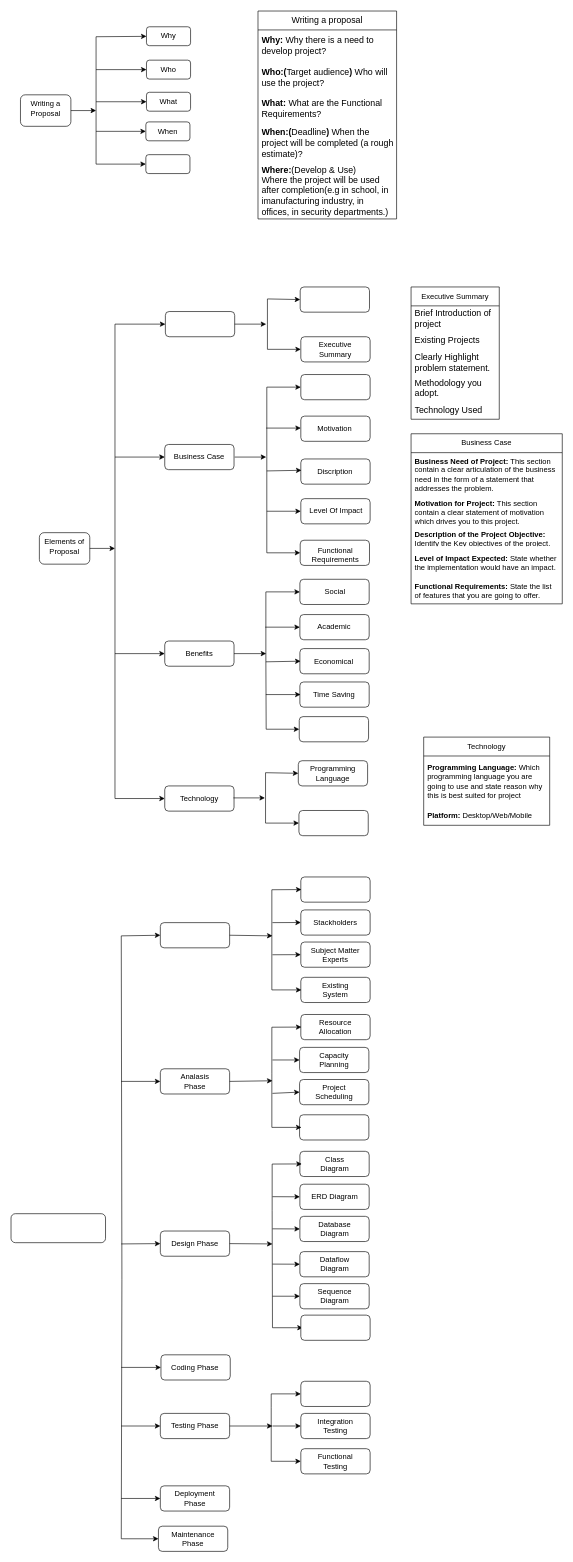
Image size: 573x1562. Some labels were removed from this diagram. Here are the shapes that lost their labels. From the top down, the centre of each, then its label:
[167,164]: Where
[334,299]: Project Title
[200,324]: Project Details
[335,387]: Business Need
[334,729]: Industrial Benefits
[333,823]: Platform
[335,889]: Customer
[195,935]: Requirement Gathering
[334,1127]: Cost Estimation
[58,1228]: SDLC(Software Development Life Cycle)
[335,1327]: Activity Diagram
[335,1393]: Unit Testing
